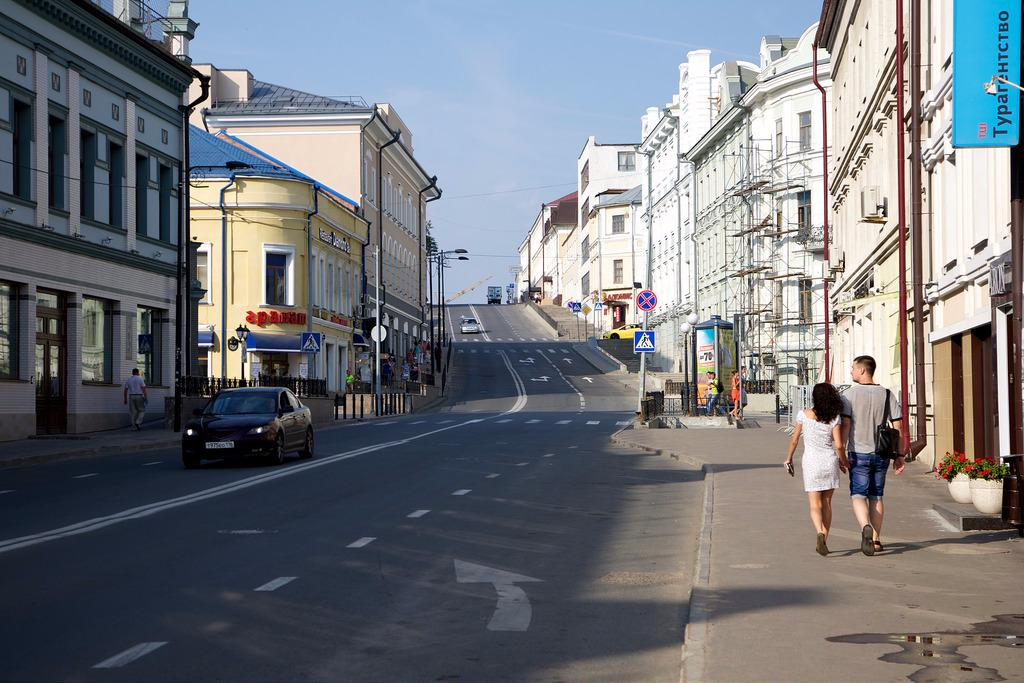sign: (633, 328, 656, 354), (635, 289, 658, 311), (300, 331, 322, 354), (579, 304, 592, 316), (593, 301, 604, 312), (572, 302, 581, 313), (567, 299, 575, 309)
